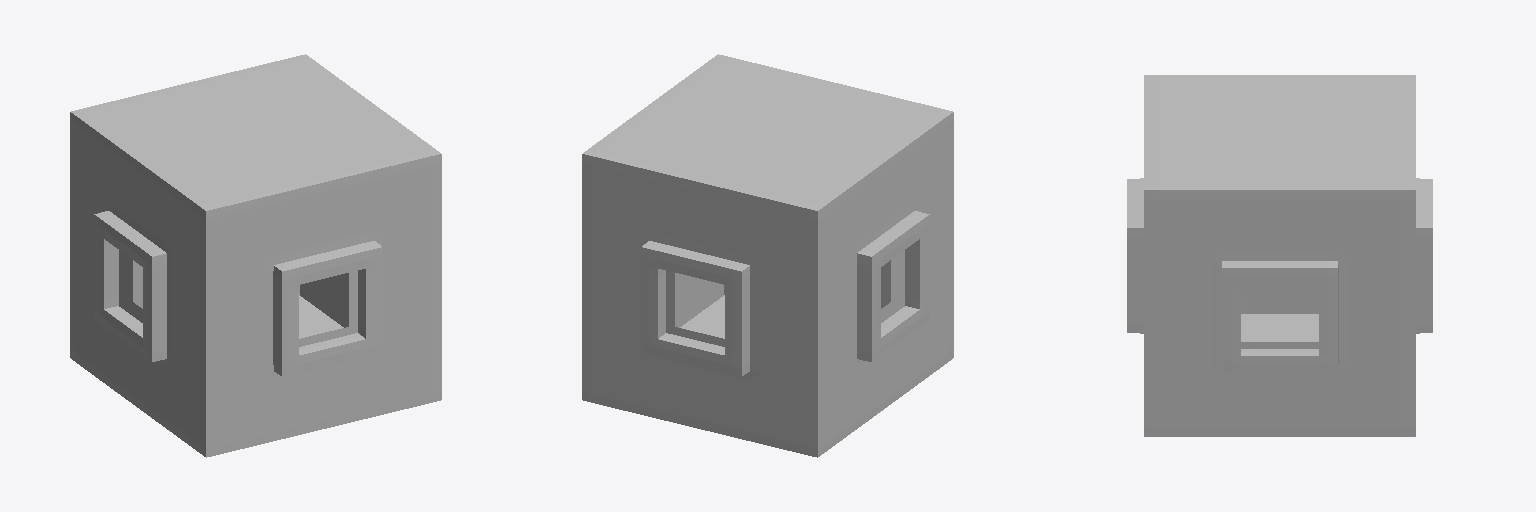
File: ModelPressureChamberCore_Smooth.obj
3 views of the same model, side by side, from view 1: azimuth 30°, elevation 25°; view 2: azimuth 150°, elevation 25°; view 3: azimuth 270°, elevation 25° (orthographic).
Parts seen in each view (by area): view 1: g pCube1; view 2: g pCube1; view 3: g pCube1.
Part boxes in pixels (left/top/right/bottom): g pCube1: left=70, top=54, right=441, bottom=457; g pCube1: left=582, top=54, right=953, bottom=457; g pCube1: left=1127, top=75, right=1432, bottom=436.
Bounding box in the file's own units: 0.985 × 0.875 × 0.9847.